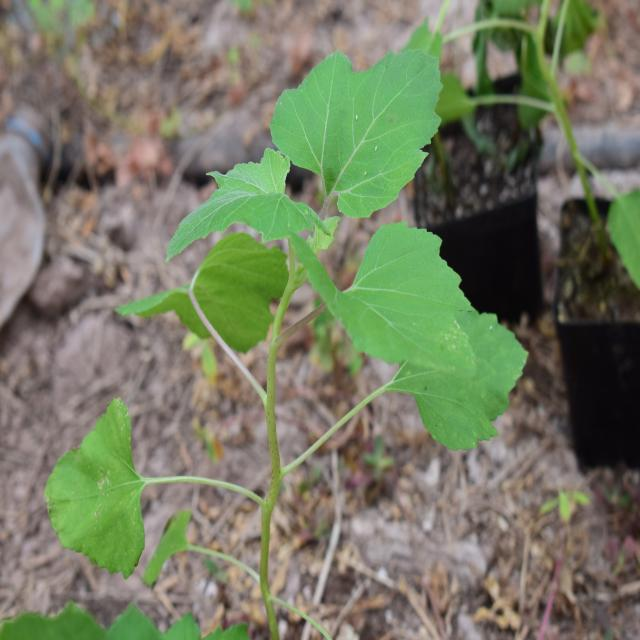cocklebur: (97, 36, 507, 448)
